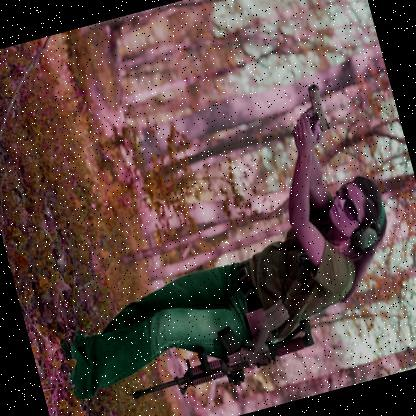rifle: (115, 302, 330, 414), (289, 79, 339, 138)
